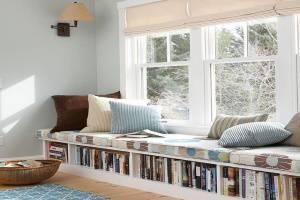window: (127, 18, 282, 124)
